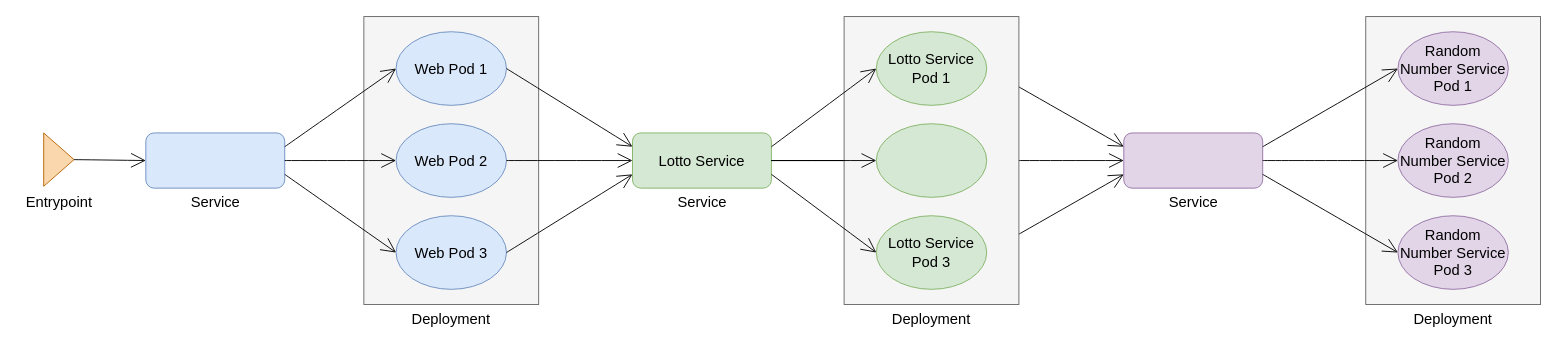
The diagram is 1557 pixels wide and 348 high, and some of its shapes have lost their labels. The centre of each missing label's shape, as x and y in pixels:
Lotto Service Pod 2: the point at 931,160
Random Number Service: the point at 1193,160
Web: the point at 215,160
